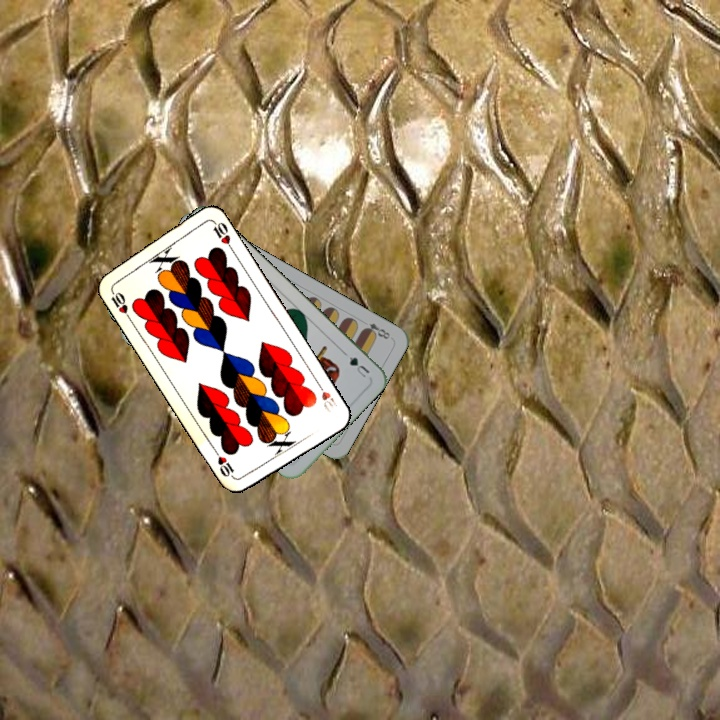E8: (359, 319, 393, 342)
GU: (340, 348, 372, 381)
H10: (312, 378, 340, 415), (107, 285, 133, 322)
